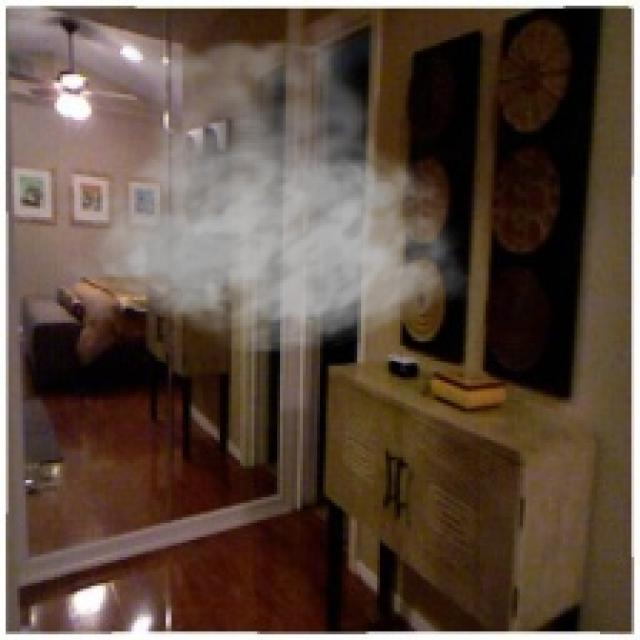smoke: (57, 9, 472, 354)
